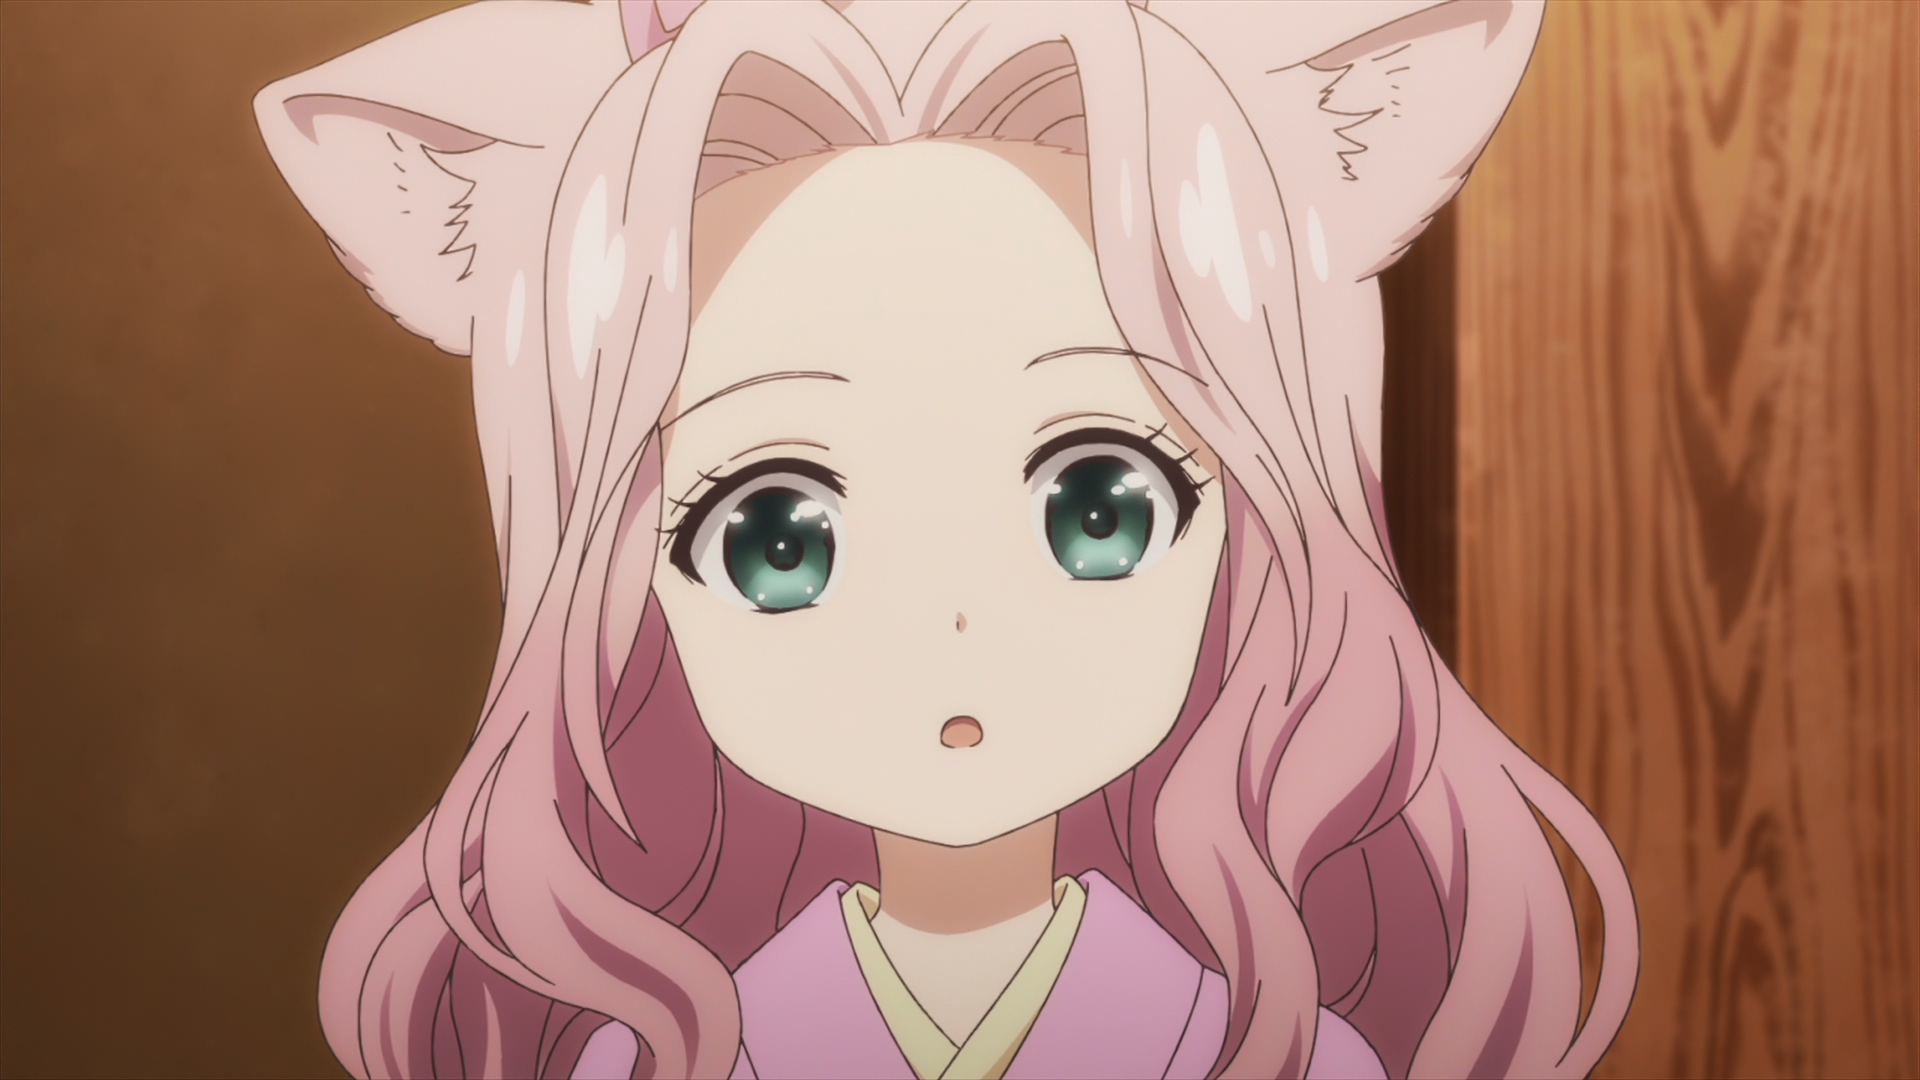莲: (257, 1, 1642, 1080)
